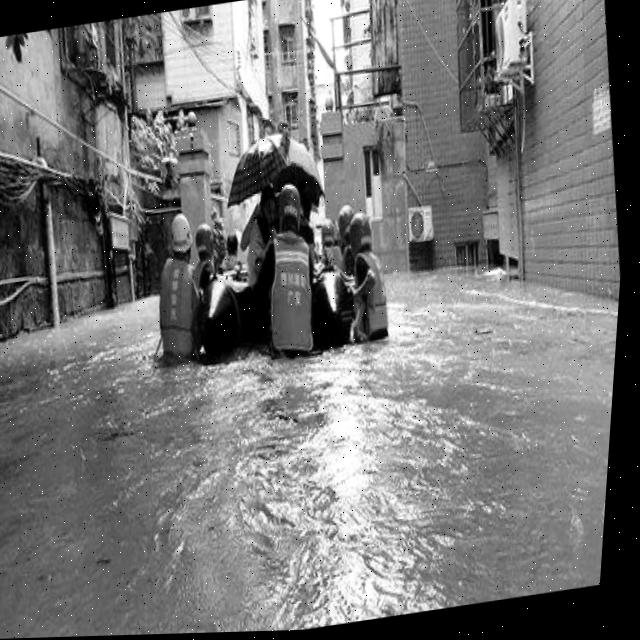civilian: (224, 164, 289, 284)
rescuer: (240, 172, 345, 374), (137, 203, 224, 374), (332, 197, 404, 354), (318, 195, 373, 276), (185, 207, 228, 282), (306, 205, 347, 273)
